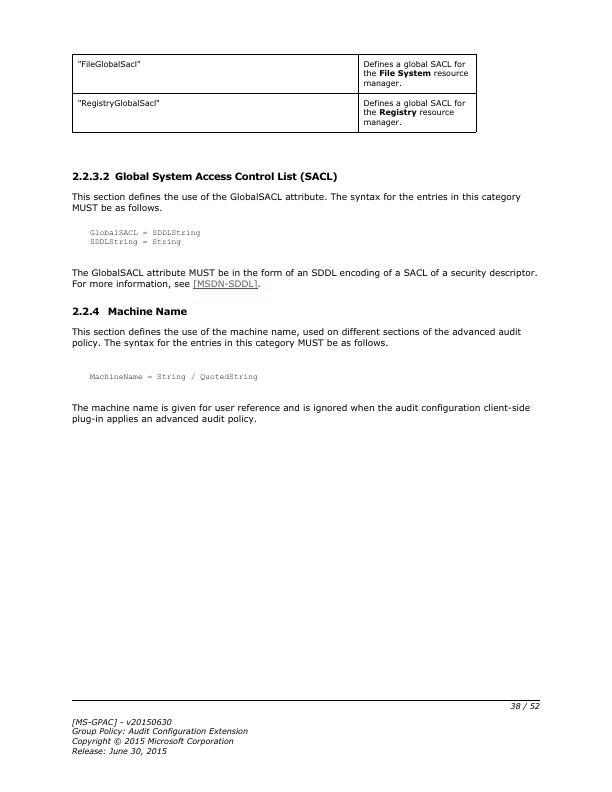table: (71, 54, 477, 134)
text: (70, 264, 540, 291), (70, 400, 532, 426), (69, 189, 526, 214), (68, 324, 522, 349), (68, 713, 250, 759), (70, 170, 340, 184), (85, 224, 206, 246), (87, 371, 263, 381), (68, 304, 191, 318)
